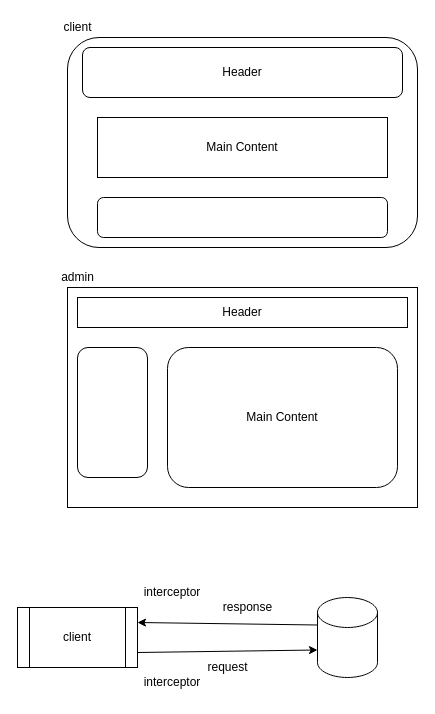
The diagram is 435 pixels wide and 714 high, and some of its shapes have lost their labels. The box of each missing label's shape, as (x1, y1, x2, y2) in pixels:
Footer: (96, 196, 388, 238)
server: (316, 596, 378, 678)
SideBar: (76, 346, 148, 478)
